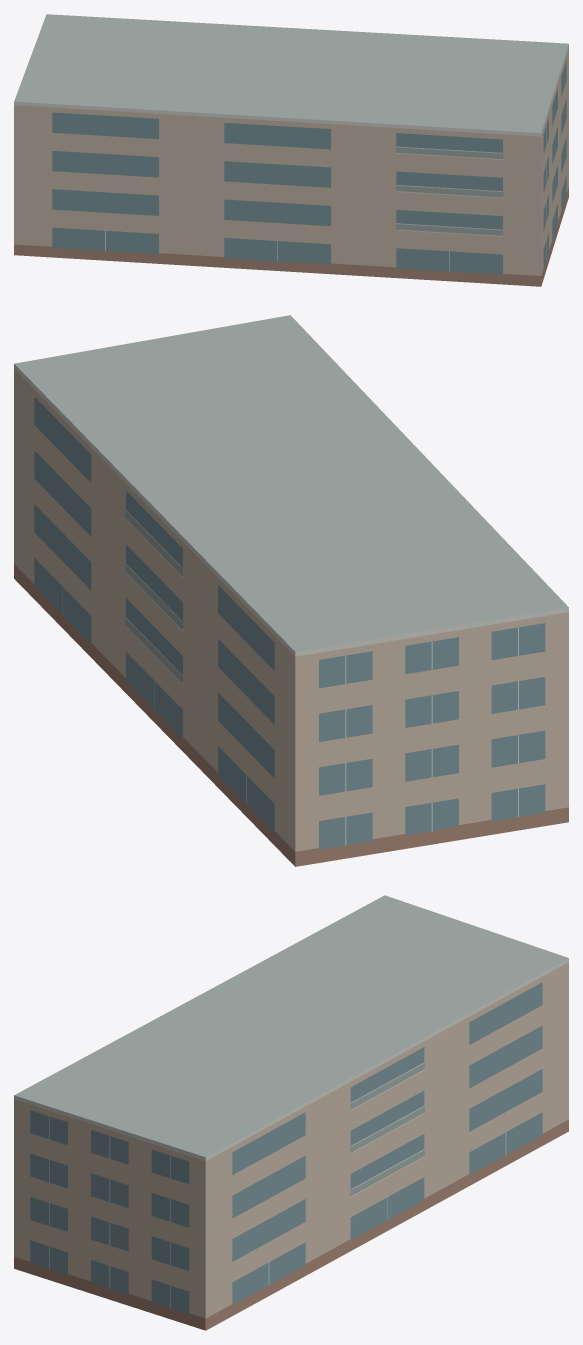
File: survey-upis-32851932.glb
3 renders of one model, top to bottom at view 1: azimuth 30°, elevation 25°; view 2: azimuth 150°, elevation 25°; view 3: azimuth 270°, elevation 25°, orthographic. The views are drawn at different scales.
Parts seen in each view (by area): view 1: survey-upis-32851932.tmp; view 2: survey-upis-32851932.tmp; view 3: survey-upis-32851932.tmp.
Part boxes in pixels (x1,y1,x2,y2): survey-upis-32851932.tmp: (14,14,568,286); survey-upis-32851932.tmp: (14,315,568,866); survey-upis-32851932.tmp: (14,895,568,1330).
Size of the model in its own units: 35.01 by 10.8 by 31.33.
